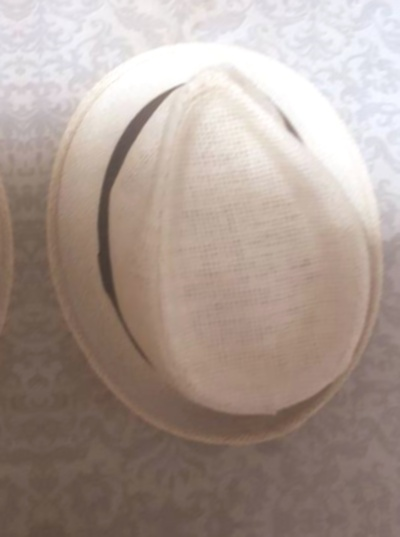Hat: (30, 0, 400, 483), (0, 21, 31, 505)
